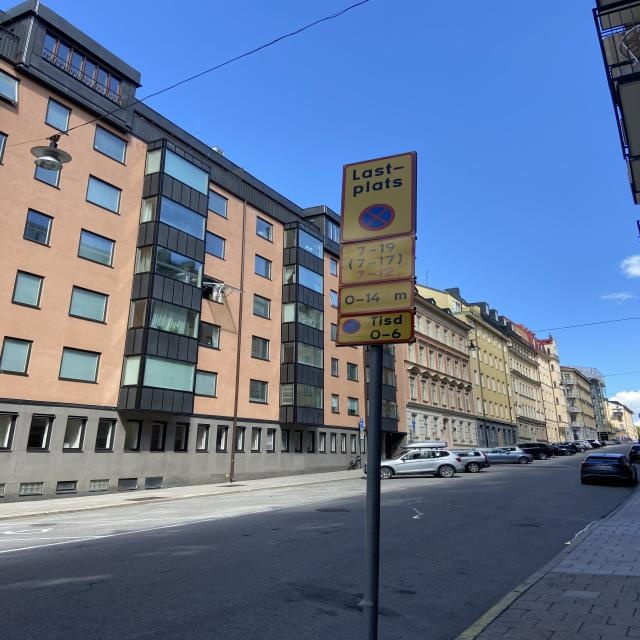lastplats: (344, 151, 418, 242)
